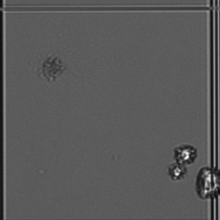Dead Cell: (39, 52, 73, 86)
Living Cell: (174, 143, 198, 167), (166, 162, 188, 184)
